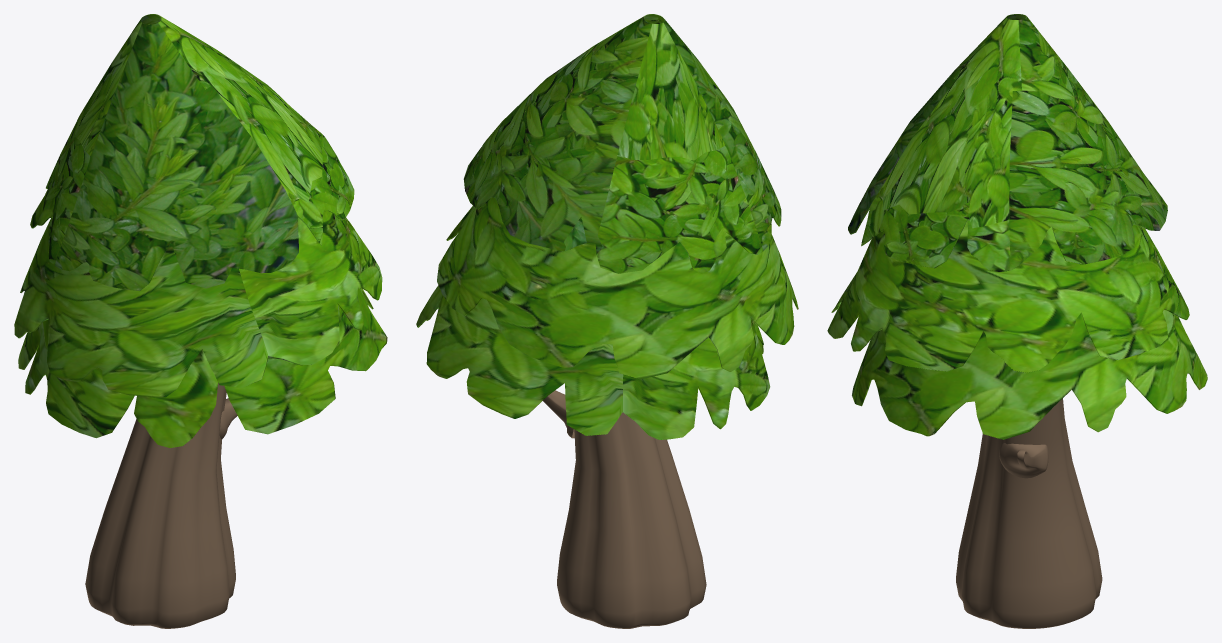
The picture shows the model from 3 angles, left to right: view 1: azimuth 30°, elevation 25°; view 2: azimuth 150°, elevation 25°; view 3: azimuth 270°, elevation 25°; orthographic projection. The views are drawn at different scales.
Visible parts, largest first — view 1: pCone8, pCone5, polySurface3, pCone6; view 2: pCone8, pCone5, polySurface3, pCone6, polySurface4; view 3: pCone8, pCone5, polySurface3, pCone6, polySurface4.
Part boxes in pixels (x1,y1,x2,y2): pCone8: (30, 14, 354, 291); pCone5: (14, 211, 382, 397); polySurface3: (85, 383, 235, 628); pCone6: (18, 288, 387, 447); pCone8: (463, 14, 781, 273); pCone5: (437, 197, 798, 379); polySurface3: (557, 412, 706, 628); pCone6: (416, 285, 770, 439); polySurface4: (543, 390, 574, 438); pCone8: (848, 14, 1167, 272); pCone5: (827, 221, 1189, 372); polySurface3: (956, 398, 1102, 628); pCone6: (852, 310, 1207, 439); polySurface4: (999, 443, 1048, 478).
Size of the model in its own units: 8.93 by 15.47 by 9.21.
Materials: 2 (1 with a texture image).
